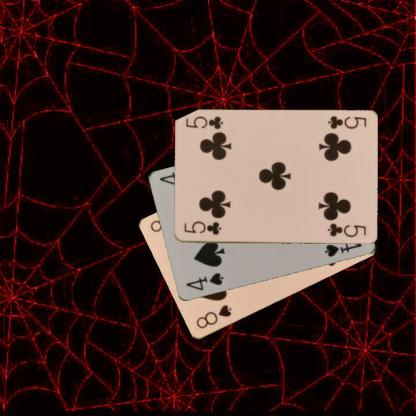4s: (182, 270, 224, 292)
5c: (326, 114, 368, 131), (182, 219, 223, 236)
8s: (193, 302, 233, 331)
